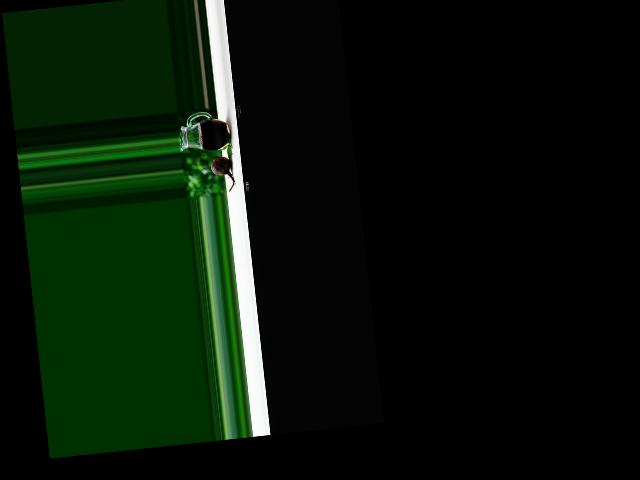beet: (210, 154, 235, 192)
